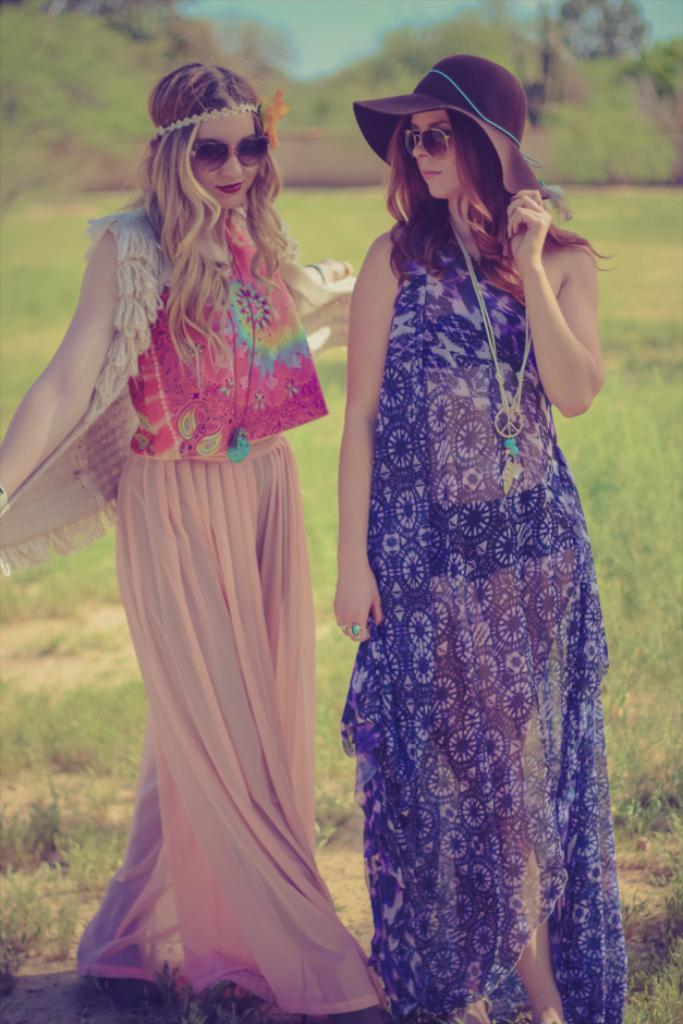Hat: (351, 55, 541, 198)
